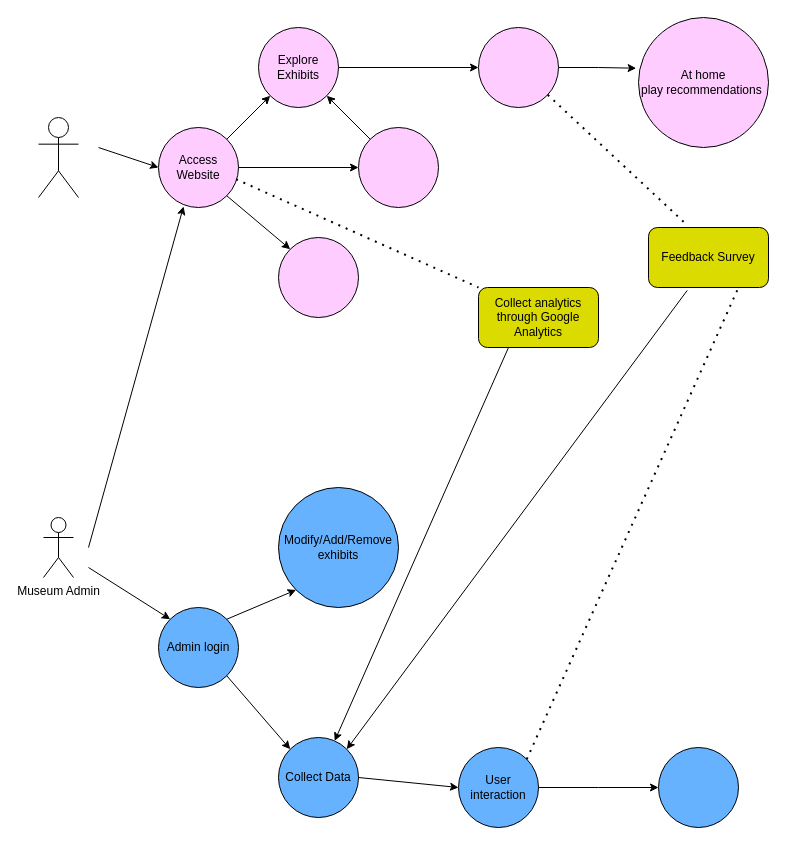
The diagram is 786 pixels wide and 845 high, and some of its shapes have lost their labels. The box of each missing label's shape, as (x1, y1, x2, y2) in pixels:
External Resources: (278, 236, 358, 318)
Interact with Map: (358, 126, 438, 208)
Log Child Play Activities: (478, 26, 558, 108)
Retrieve Data from MySQL: (658, 746, 738, 828)
User/Parent: (38, 116, 78, 198)
